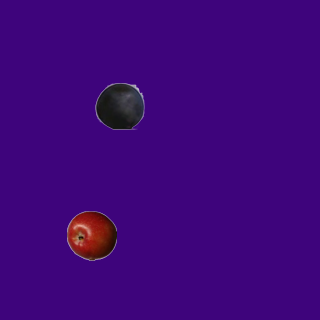Apple Braeburn: (66, 210, 116, 260)
Grape Blue: (94, 80, 144, 130)
